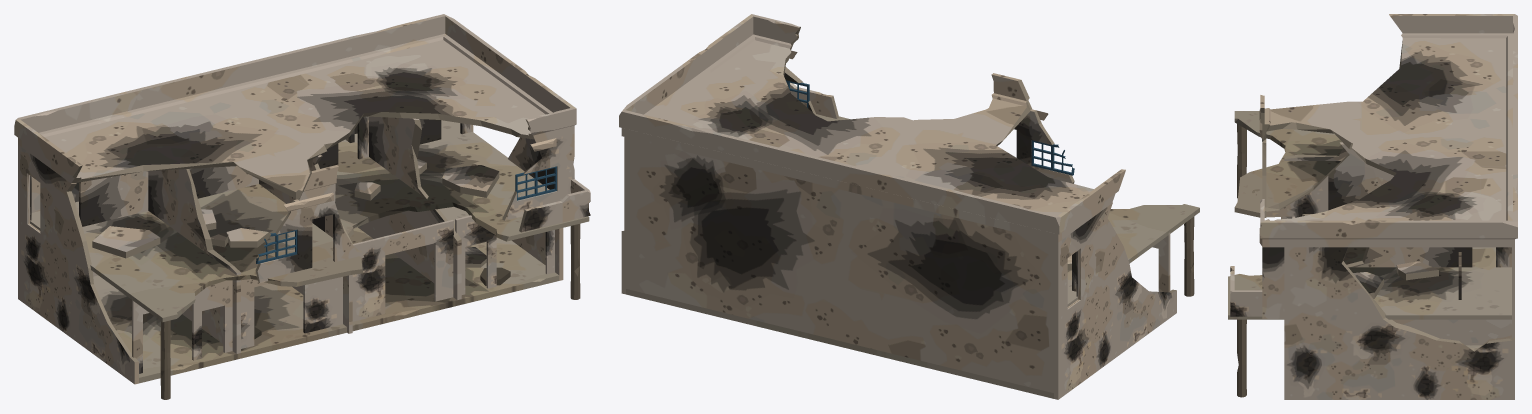
File: SM_Bld_Shop_08_Destroyed.glb
3 renders of one model, left to right at view 1: azimuth 30°, elevation 25°; view 2: azimuth 150°, elevation 25°; view 3: azimuth 270°, elevation 25°, orthographic. The views are drawn at different scales.
Parts seen in each view (by area): view 1: SM_Bld_Shop_08_Destroyed; view 2: SM_Bld_Shop_08_Destroyed; view 3: SM_Bld_Shop_08_Destroyed.
Part boxes in pixels (left/top/right/bottom): SM_Bld_Shop_08_Destroyed: left=14, top=14, right=590, bottom=399; SM_Bld_Shop_08_Destroyed: left=619, top=14, right=1199, bottom=399; SM_Bld_Shop_08_Destroyed: left=1228, top=14, right=1517, bottom=399.
Size of the model in its own units: 21.4 by 8.5 by 12.56.
1 material, 1 textured.
